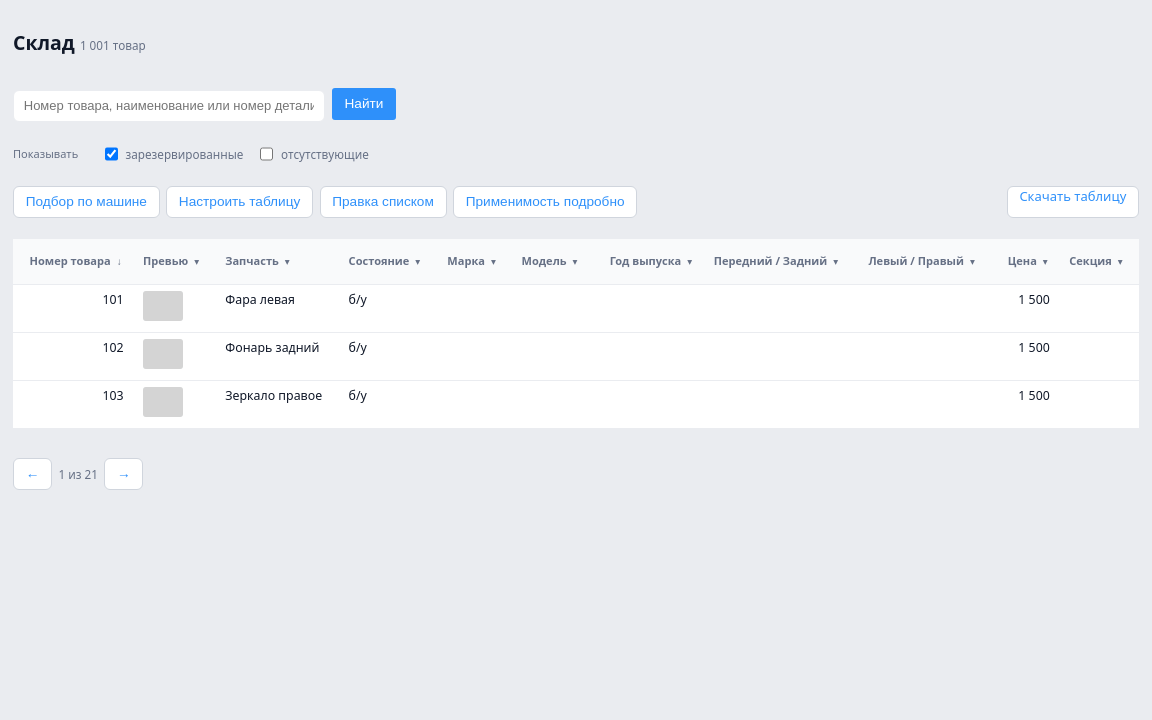
Test: печать этикеток из списка склада › отбор больше предела — кнопка гаснет и просит сузить
Click the button "Правка списком" at (383, 202), box [320,186,446,218]
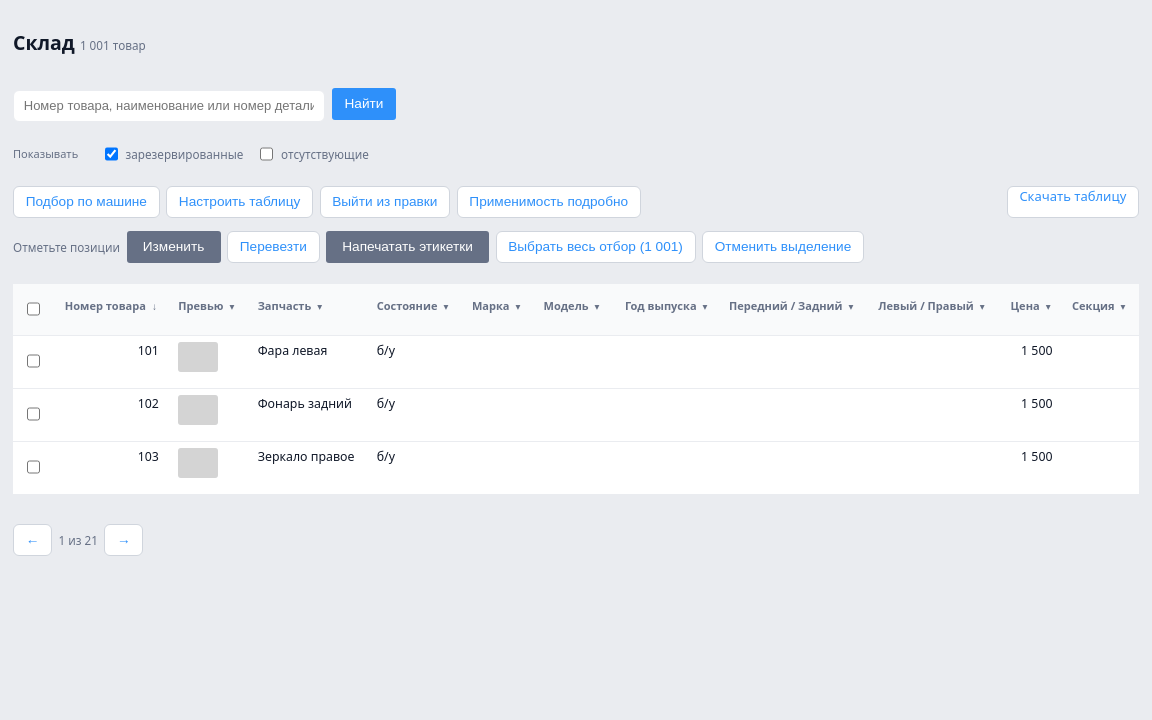
Click the button "Выбрать весь отбор (1 001)" at (596, 247), box [496,231,696,263]
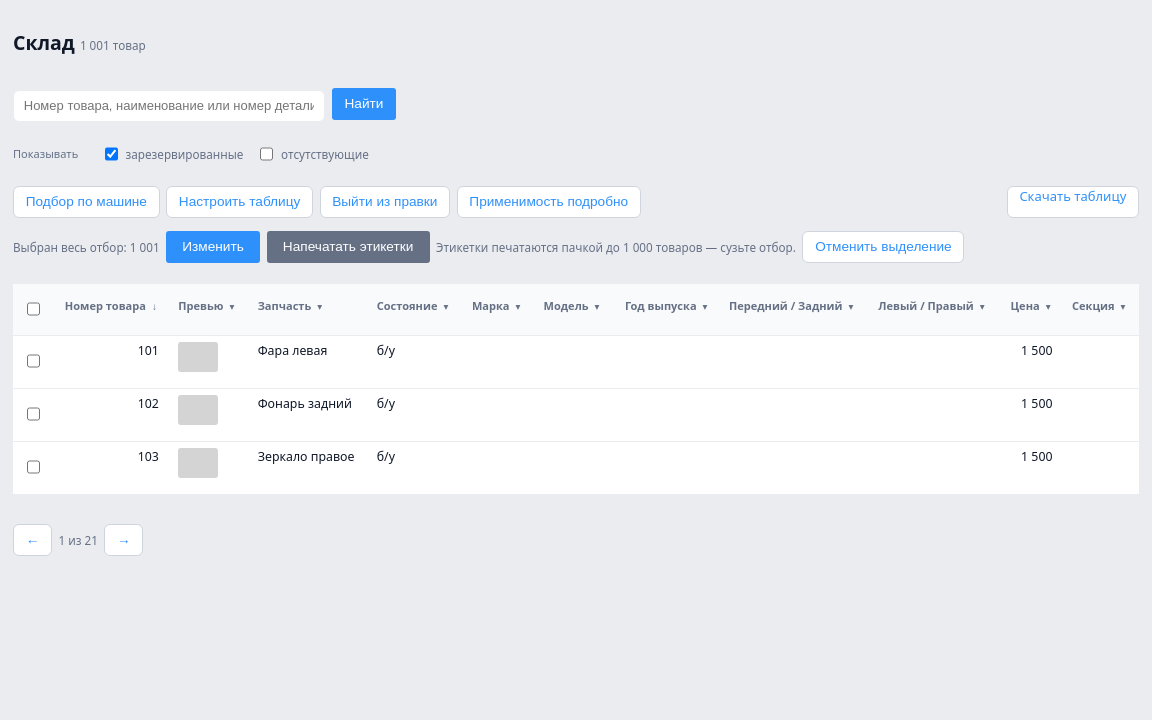
Expected: the button "Напечатать этикетки" is disabled, [267,231,430,263]
Expected: the text "Этикетки печатаются пачкой до 1 000 товаров — сузьте отбор." is shown, [436,239,796,255]
